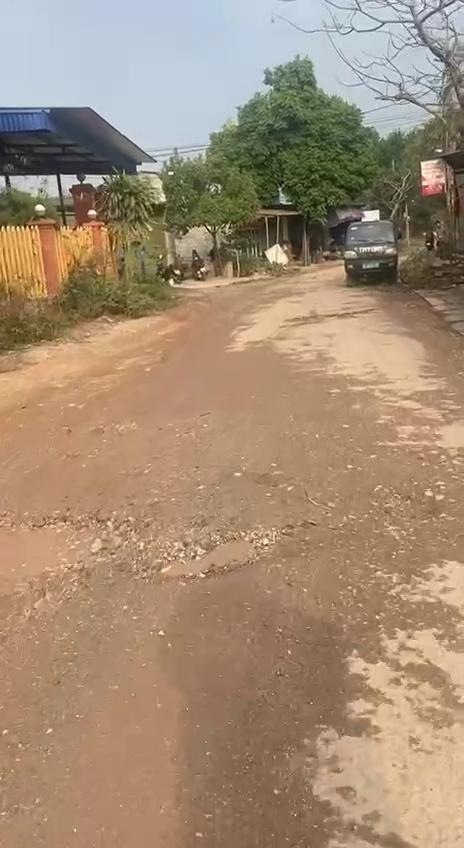pothole: (0, 511, 112, 598), (146, 530, 274, 582)
